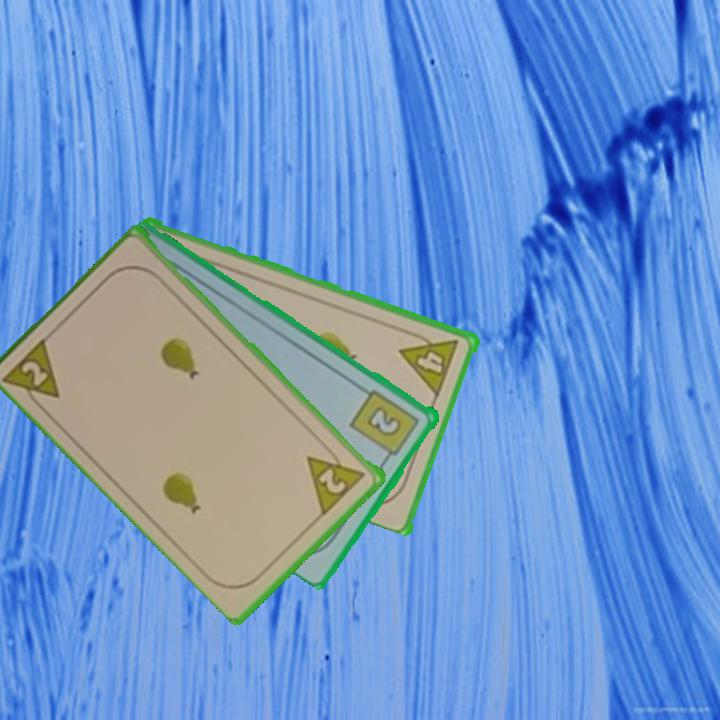2b: (347, 386, 423, 465)
2p: (1, 332, 64, 416), (303, 440, 369, 517)
4p: (397, 326, 462, 398)
